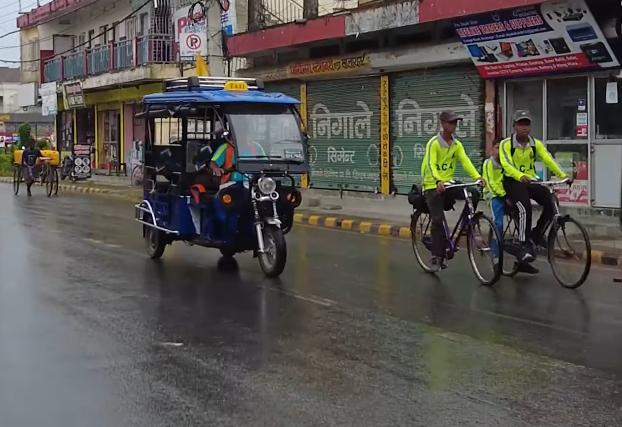e-rickshaw: (129, 70, 321, 285)
